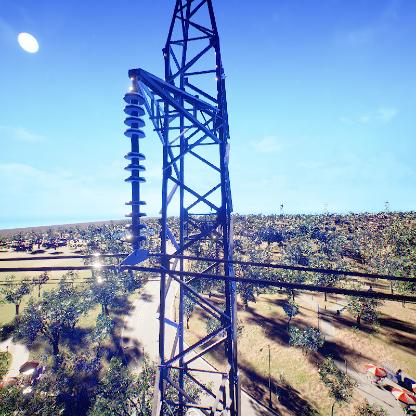insulator: (118, 90, 149, 245)
